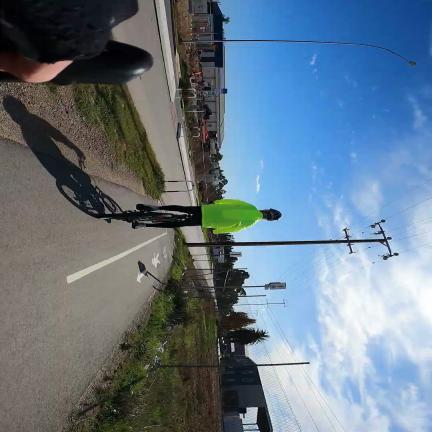Bike_Lane: (0, 140, 174, 432)
